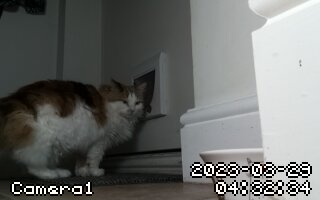clara: (2, 69, 160, 188)
